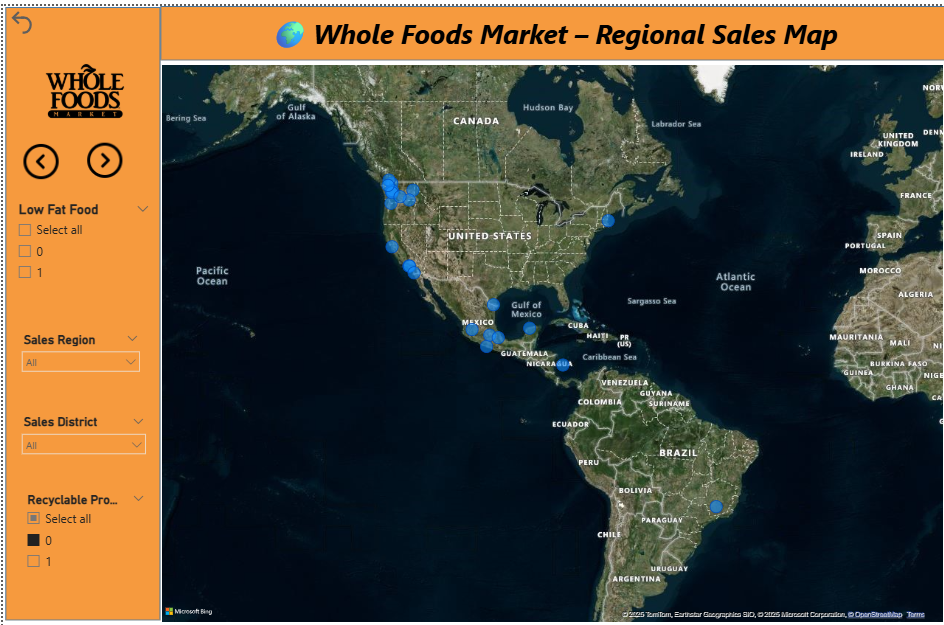

The dashboard page shown, as its layout file describes it:
{"tool":"powerbi","page":{"name":"Maps","canvas":[1280,850],"ordinal":1},"visuals":[{"type":"group","id":"g1","title":"Group 1","box":[3.3,1.6,210,831.4],"z":0,"group":"g2"},{"type":"map","fields":{"Category":["WholeFoods_Stores.store_city"]},"box":[210.8,73.8,1069.2,766.2],"z":0},{"type":"group","id":"g2","title":"Group 4","box":[3.3,1.6,210,831.4],"z":1000},{"type":"slicer","fields":{"Values":["WholeFoods_Regions.sales_region"]},"box":[14.3,437.7,180.3,85.2],"z":1000,"group":"g2"},{"type":"shape","box":[3.3,1.6,210,831.4],"z":1501,"group":"g1"},{"type":"actionButton","box":[4.9,1.6,100,41],"z":2000},{"type":"slicer","fields":{"Values":["WholeFoods_Products.low_fat"]},"box":[7.8,260.6,201.6,157.4],"z":2000,"group":"g2"},{"type":"image","box":[26.9,52,167.7,131.3],"z":2001,"group":"g1"},{"type":"actionButton","box":[109.8,182,83.6,55.7],"z":3000},{"type":"actionButton","box":[24.2,182.5,75.4,55.7],"z":3000,"group":"g2"},{"type":"shape","box":[213.8,0,1066.2,73.8],"z":4000},{"type":"slicer","fields":{"Values":["WholeFoods_Regions.sales_district"]},"box":[16,549.1,188.5,80.3],"z":4000,"group":"g2"},{"type":"slicer","fields":{"Values":["WholeFoods_Products.recyclable"]},"box":[19.7,654.8,183.6,150.8],"z":5000,"group":"g2"}]}

Visuals, with their boxes on the page's 1280x850 design canvas (x1, y1, x2, y2). These are canvas units, not pixel positions in the 944x625 screenshot, which may show the page scaled, cropped or inside an application window:
"Group 1" group: [3,2,213,833]
map - WholeFoods_Stores.store_city: [211,74,1280,840]
"Group 4" group: [3,2,213,833]
slicer - WholeFoods_Regions.sales_region: [14,438,195,523]
shape: [3,2,213,833]
actionButton: [5,2,105,43]
slicer - WholeFoods_Products.low_fat: [8,261,209,418]
image: [27,52,195,183]
actionButton: [110,182,193,238]
actionButton: [24,182,100,238]
shape: [214,0,1280,74]
slicer - WholeFoods_Regions.sales_district: [16,549,204,629]
slicer - WholeFoods_Products.recyclable: [20,655,203,806]
